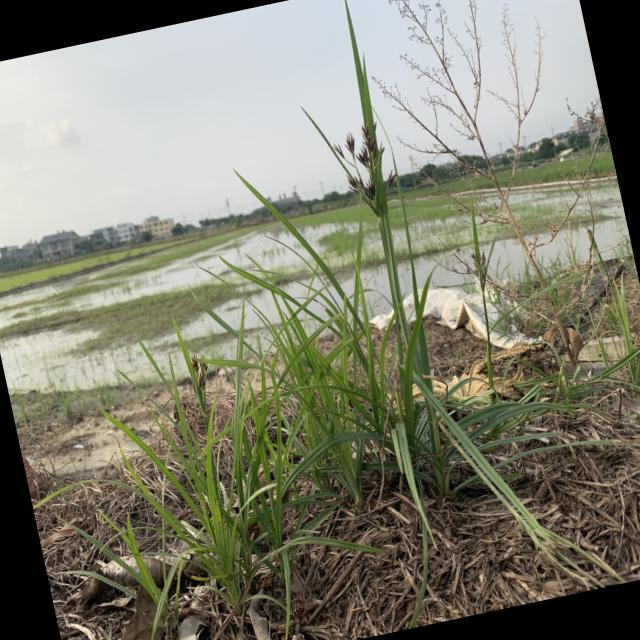cyperus: (322, 110, 409, 226), (444, 235, 497, 302), (184, 345, 218, 401)
